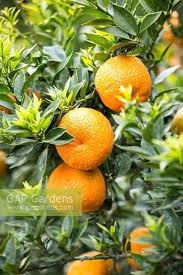orange: (52, 105, 115, 168), (43, 161, 108, 214), (95, 54, 155, 109), (122, 227, 159, 269)
